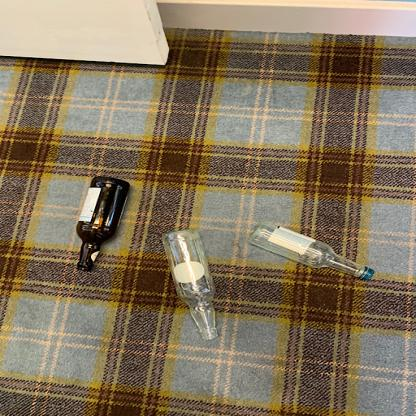trash: (248, 221, 375, 282), (162, 230, 224, 341), (68, 176, 134, 274)
